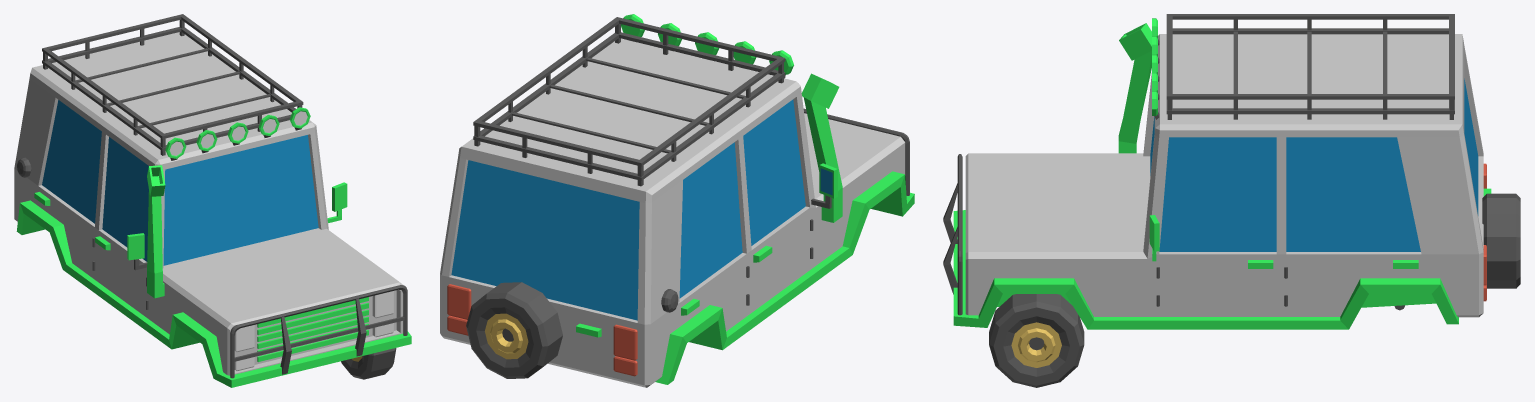
The picture shows the model from 3 angles, left to right: view 1: azimuth 30°, elevation 25°; view 2: azimuth 150°, elevation 25°; view 3: azimuth 270°, elevation 25°; orthographic projection. The views are drawn at different scales.
Visible parts, largest first — view 1: 4x4, Wheel; view 2: 4x4; view 3: 4x4, Wheel.
Boxes of the visible parts, left/top/right/bottom form: 4x4: left=14, top=14, right=411, bottom=387; Wheel: left=341, top=348, right=396, bottom=379; 4x4: left=440, top=14, right=914, bottom=387; 4x4: left=943, top=14, right=1520, bottom=329; Wheel: left=989, top=294, right=1084, bottom=387.
Bounding box in the file's own units: 351 × 361 × 671.
